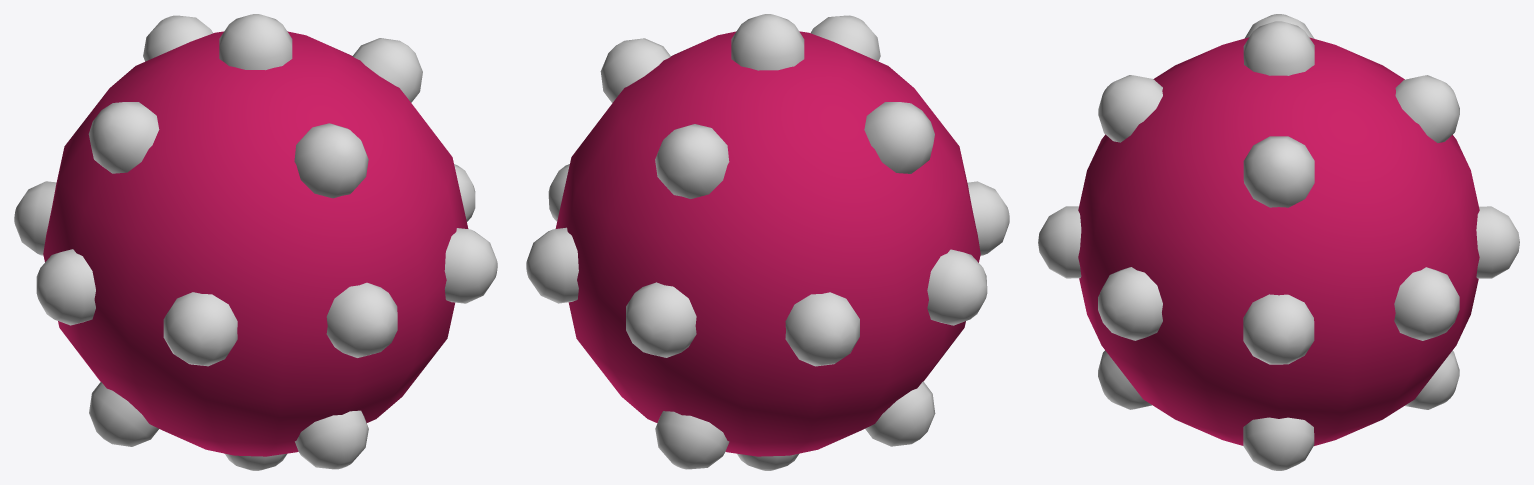
File: danger ball_pink.fbx
3 renders of one model, left to right at view 1: azimuth 30°, elevation 25°; view 2: azimuth 150°, elevation 25°; view 3: azimuth 270°, elevation 25°, orthographic. The views are drawn at different scales.
Parts seen in each view (by area): view 1: danger ball_pink; view 2: danger ball_pink; view 3: danger ball_pink.
Part boxes in pixels (bbox=[...]): danger ball_pink: bbox=[14, 14, 497, 470]; danger ball_pink: bbox=[526, 14, 1009, 470]; danger ball_pink: bbox=[1038, 14, 1519, 470].
Bounding box in the file's own units: 0.4351 × 0.4351 × 0.4351.
